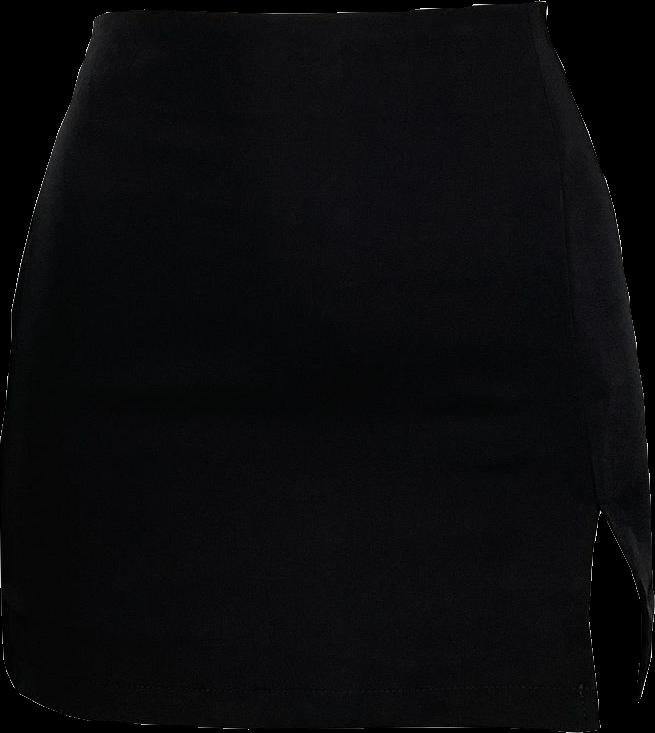Hemline: (10, 506, 646, 732)
Waistline: (92, 0, 543, 25)
